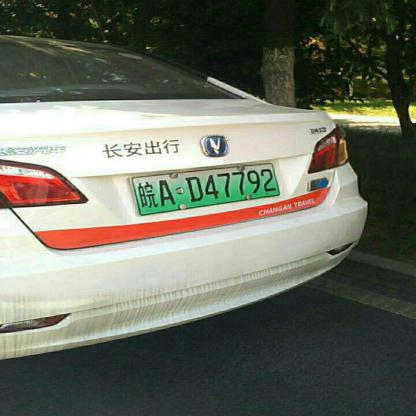lp: (130, 162, 281, 214)
